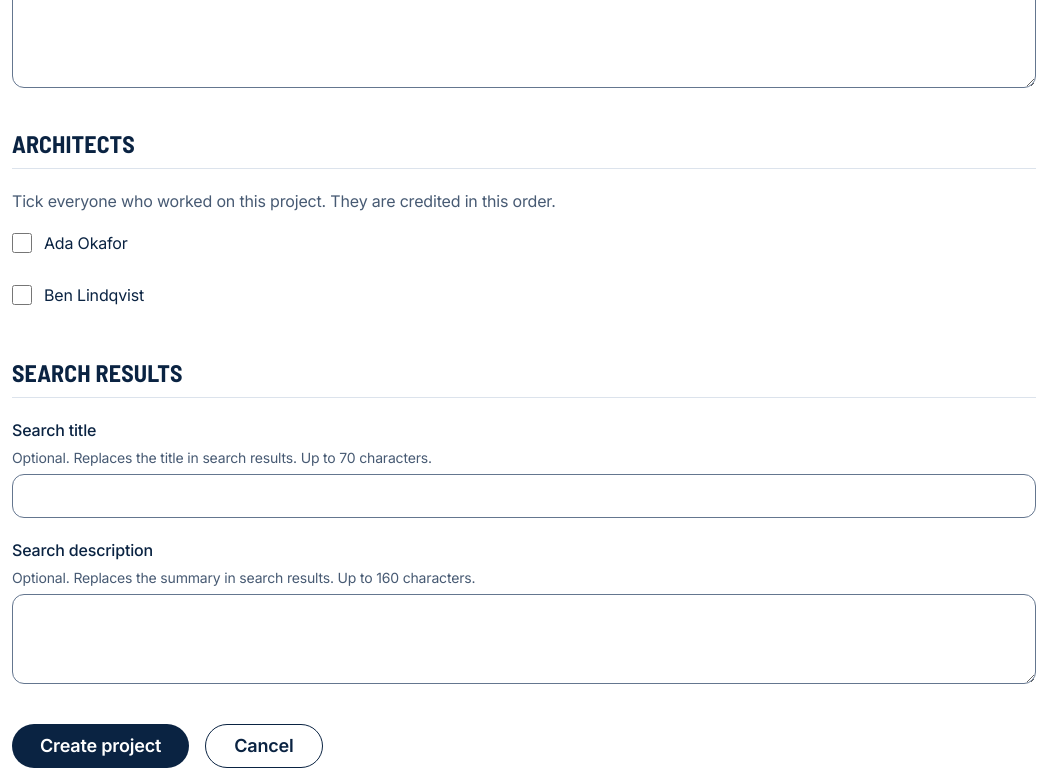
Test: ProjectForm › after a failed save › shows a message with the reasons when the problem belongs to no single field
(page scrolled)
Click the button "Create project" at (101,746), box [12,724,189,767]
(page scrolled)
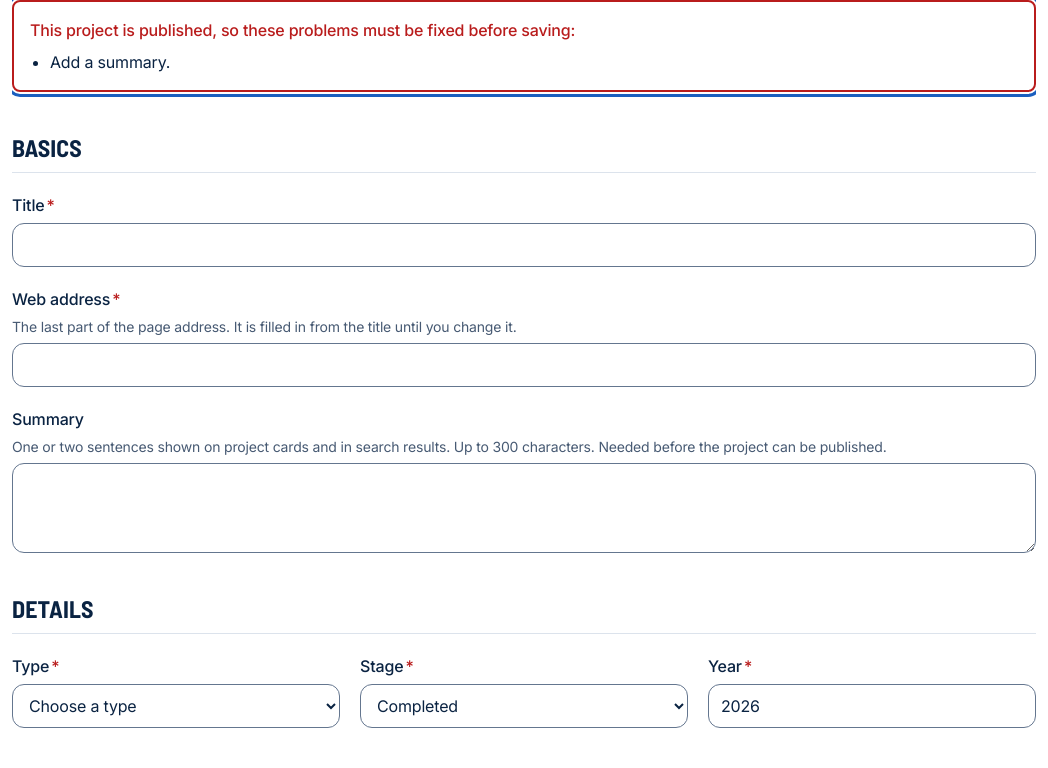
Expected: the message shows "published, so these problems", [30,20,575,40]
Expected: the list item reads "Add a summary.", [50,52,170,72]
